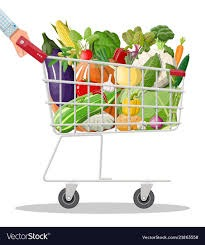with_basket: (24, 27, 188, 209)
